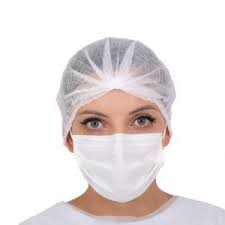with_mask_and_cap: (58, 41, 173, 204)
